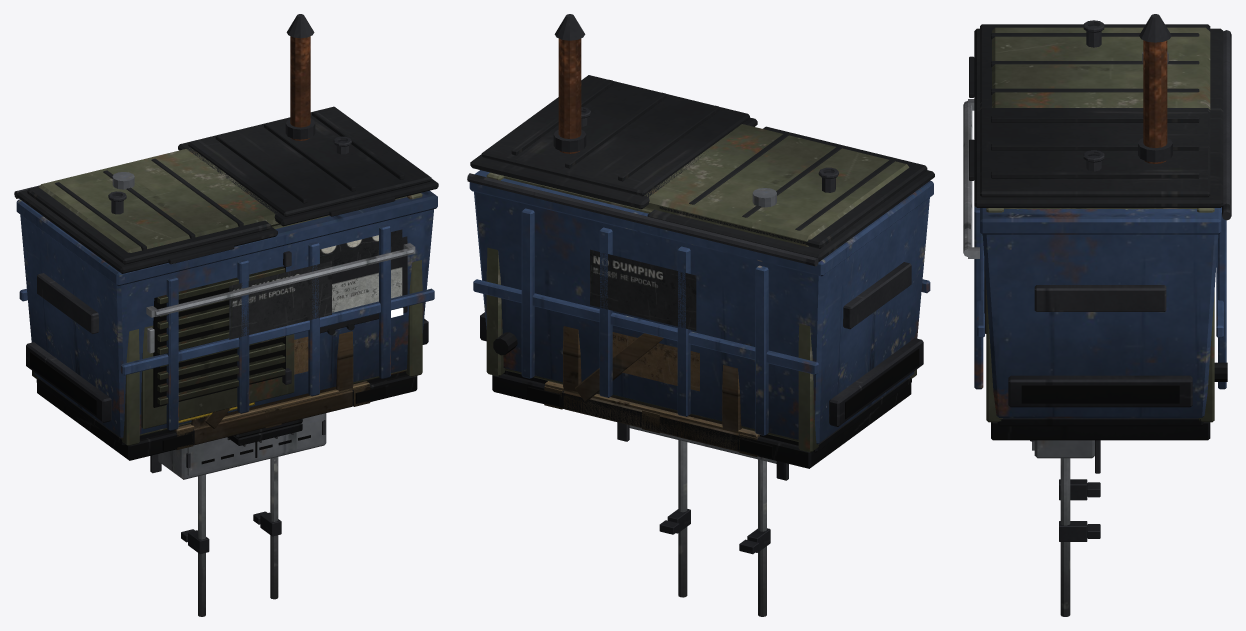
File: ncz_street_props.glb
3 renders of one model, left to right at view 1: azimuth 30°, elevation 25°; view 2: azimuth 150°, elevation 25°; view 3: azimuth 270°, elevation 25°, orthographic. The views are drawn at different scales.
Visible parts, largest first — view 1: dumpster_blue, generator, utility_box, crate, pallet, wall_lamp; view 2: dumpster_blue, generator, crate, utility_box, pallet; view 3: dumpster_blue, generator, utility_box.
Boxes of the visible parts, x1,y1,x2,y2 form: dumpster_blue: (14,106,438,445); generator: (32,14,422,460); utility_box: (150,413,326,616); crate: (191,331,353,445); pallet: (174,381,370,449); wall_lamp: (227,419,302,446); dumpster_blue: (467,75,934,452); generator: (486,14,916,468); crate: (563,326,741,451); utility_box: (617,422,788,616); pallet: (544,381,759,456); dumpster_blue: (963,24,1231,426); generator: (984,14,1227,440); utility_box: (1030,440,1100,616).
Size of the model in its own units: 2.04 by 3.2 by 1.22.
Materials: 2 (1 with a texture image).
